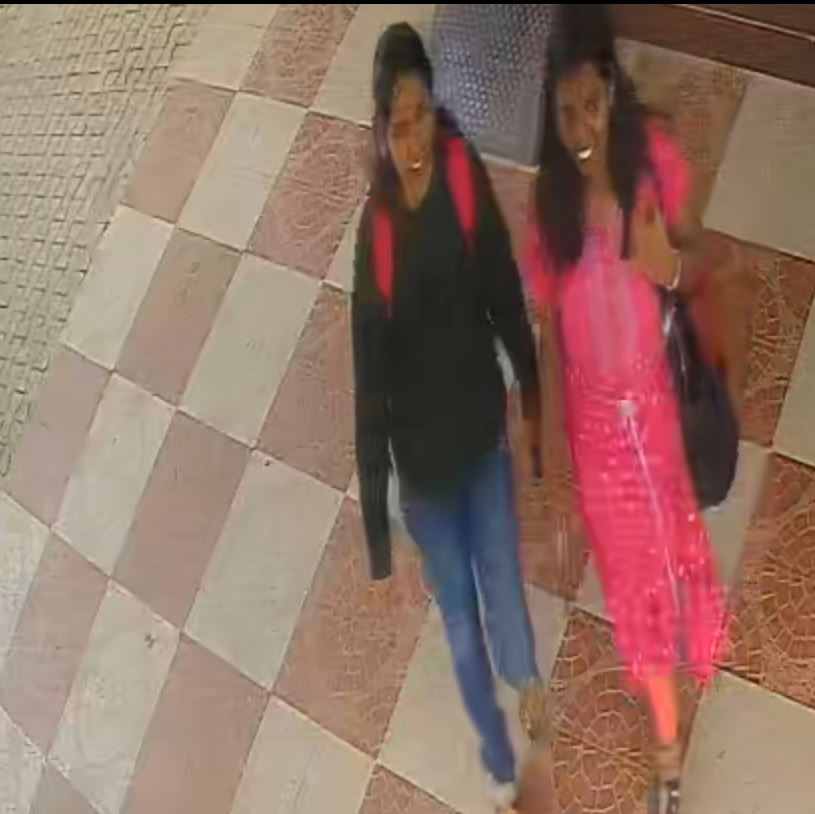intruder: (531, 15, 772, 783), (340, 24, 581, 788)
